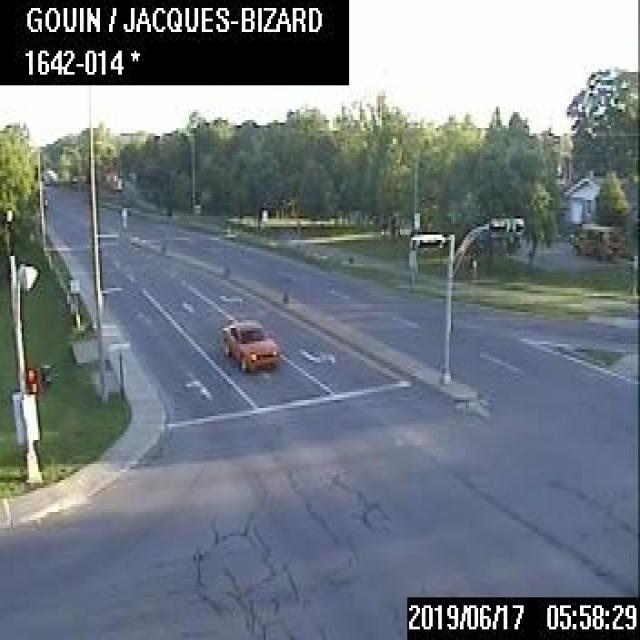bus: (568, 221, 620, 257)
vehicle: (220, 317, 277, 370)
